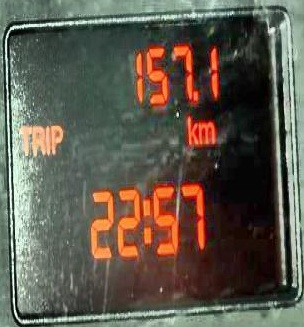-: (192, 89, 198, 101)
1: (134, 50, 143, 102), (208, 46, 217, 96)
2: (89, 190, 113, 259), (116, 188, 139, 256)
5: (152, 184, 178, 253), (145, 46, 167, 104)
7: (180, 182, 204, 249), (173, 44, 191, 98)
X: (141, 197, 151, 243), (185, 114, 198, 145), (198, 120, 215, 143), (31, 126, 44, 155), (49, 123, 61, 154), (18, 126, 30, 155), (44, 124, 50, 154)
